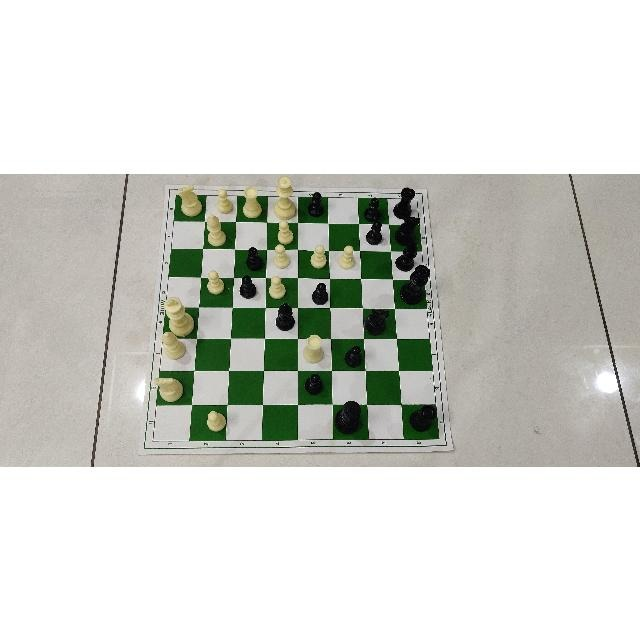black-bishop: (394, 239, 419, 272), (274, 301, 295, 330)
black-king: (334, 399, 362, 435)
black-knight: (394, 215, 420, 245), (363, 307, 389, 334)
black-pawn: (245, 245, 265, 272), (342, 342, 363, 367), (366, 219, 385, 246), (363, 195, 381, 222), (305, 372, 325, 396), (310, 279, 329, 304), (306, 191, 324, 217), (240, 274, 258, 298)
black-queen: (399, 263, 431, 305)
black-rook: (409, 404, 437, 432), (392, 187, 416, 219)
white-bishop: (161, 330, 189, 362), (207, 212, 230, 247)
white-king: (164, 292, 194, 337)
white-knight: (153, 373, 184, 403), (176, 184, 203, 217)
white-pawn: (213, 186, 234, 215), (338, 242, 358, 272), (204, 269, 226, 295), (267, 274, 289, 300), (308, 241, 328, 268), (270, 243, 290, 269), (274, 219, 294, 245), (205, 409, 226, 432)
white-queen: (273, 175, 297, 219)
white-rook: (300, 332, 330, 366), (241, 182, 265, 221), (240, 184, 265, 219), (301, 332, 326, 363)
